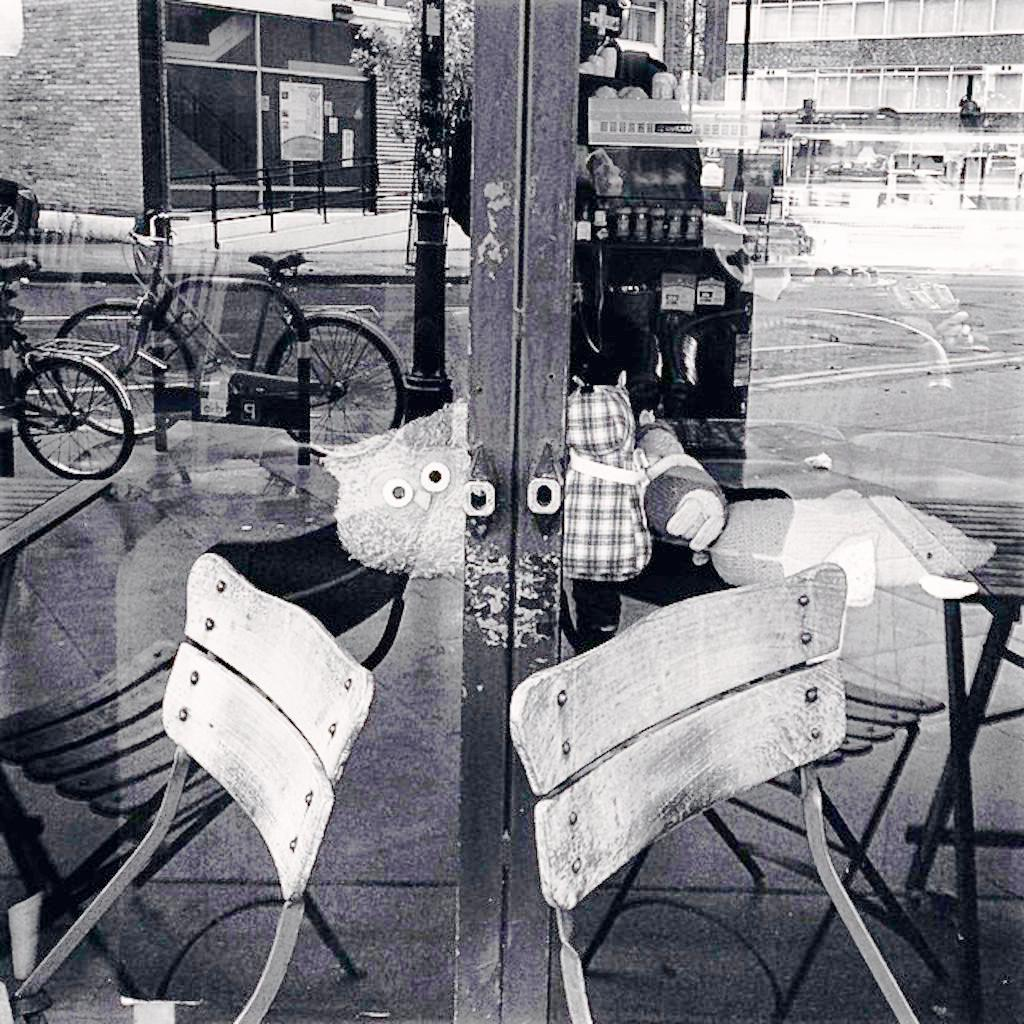Owl: (309, 403, 467, 581)
